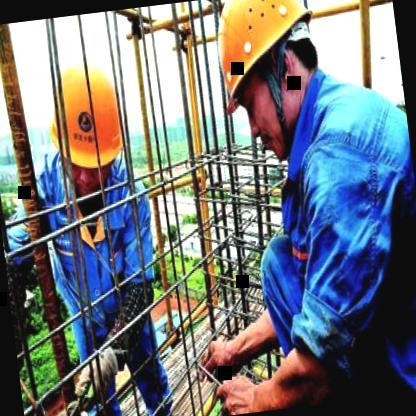helmet: (199, 0, 336, 166), (43, 40, 136, 213)
